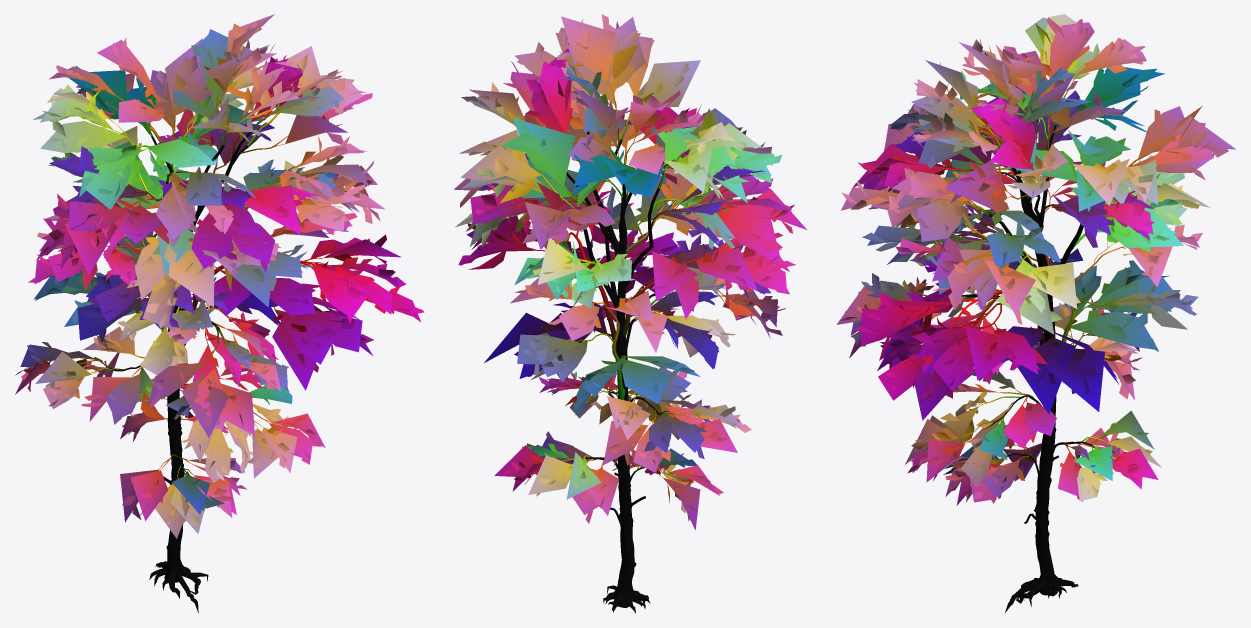
File: SM_EuropeanBeech_L_02.fbx
The picture shows the model from 3 angles, left to right: view 1: azimuth 30°, elevation 25°; view 2: azimuth 150°, elevation 25°; view 3: azimuth 270°, elevation 25°; orthographic projection. The views are drawn at different scales.
Parts seen in each view (by area): view 1: SM_EuropeanBeech_L_02_LOD0; view 2: SM_EuropeanBeech_L_02_LOD0; view 3: SM_EuropeanBeech_L_02_LOD0.
Part boxes in pixels (x1,y1,x2,y2): SM_EuropeanBeech_L_02_LOD0: (15, 14, 424, 613); SM_EuropeanBeech_L_02_LOD0: (454, 14, 806, 613); SM_EuropeanBeech_L_02_LOD0: (836, 14, 1235, 612).
Size of the model in its own units: 851 by 819 by 1343.
